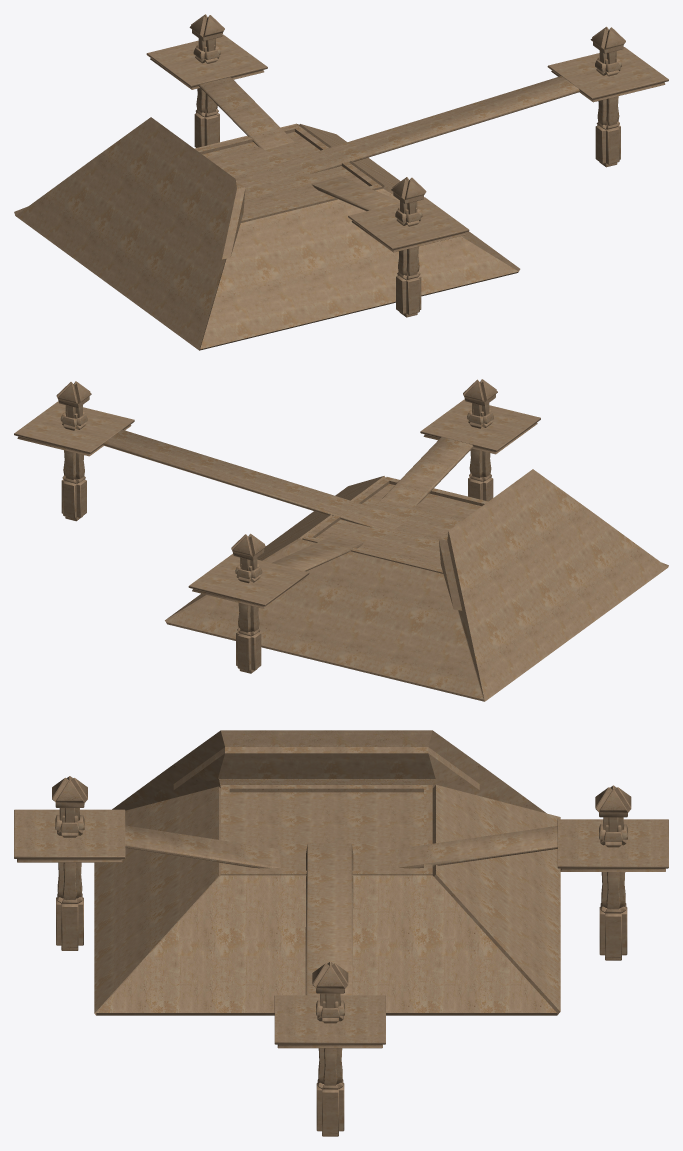
Rendered from landscape-small.glb.
3 renders of one model, top to bottom at view 1: azimuth 30°, elevation 25°; view 2: azimuth 150°, elevation 25°; view 3: azimuth 270°, elevation 25°, orthographic. The views are drawn at different scales.
Visible parts, largest first — view 1: Cube.003; view 2: Cube.003; view 3: Cube.003.
Boxes of the visible parts, left/top/right/bottom form: Cube.003: left=14, top=14, right=668, bottom=350; Cube.003: left=14, top=379, right=668, bottom=701; Cube.003: left=14, top=730, right=668, bottom=1136.
Size of the model in its own units: 318 by 76.14 by 266.
1 material, 1 textured.
